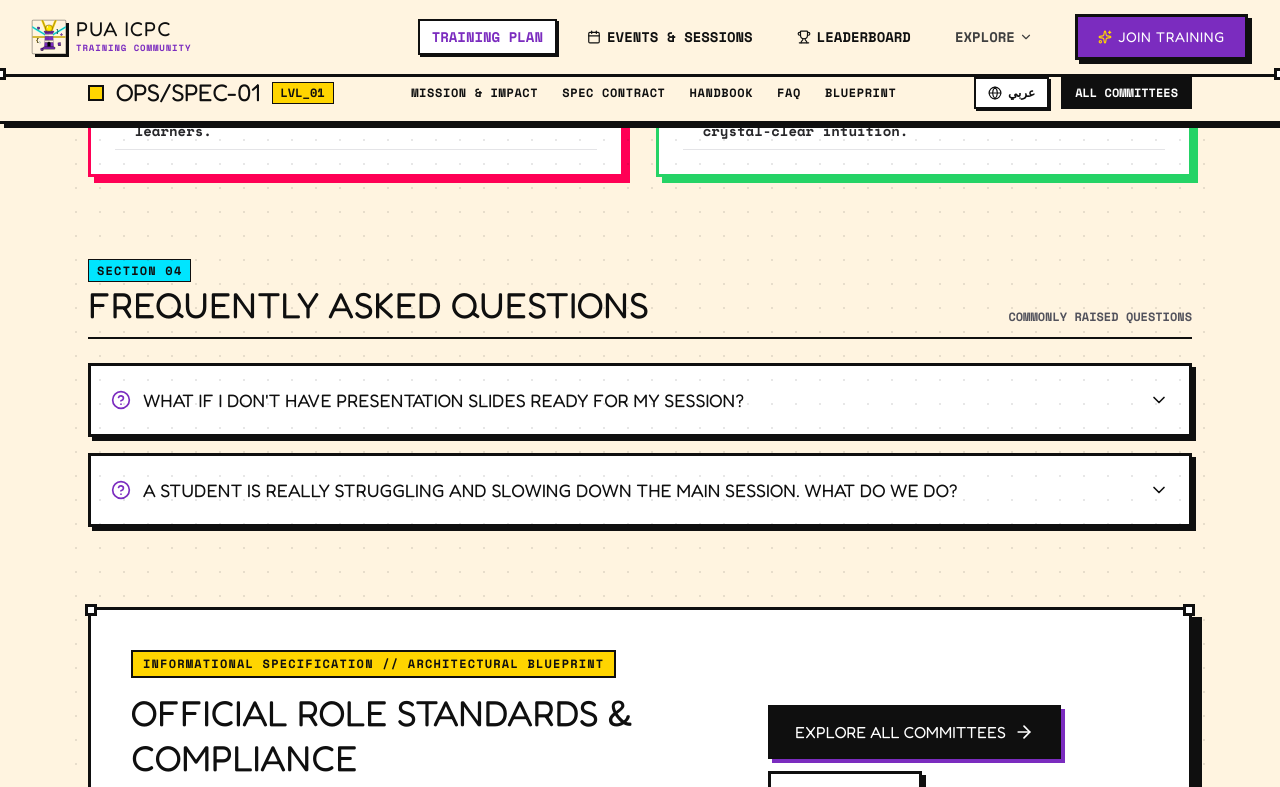
Test case: PuaSpecSheet › reveals a handbook answer when its FAQ row is expanded
The image size is (1280, 787).
(page scrolled)
What coordinates should you click on to do the following:
click the button "What if I don't have presentation slides ready for my session?"
I would click on:
 (640, 400)
Its box is [91, 366, 1189, 434].
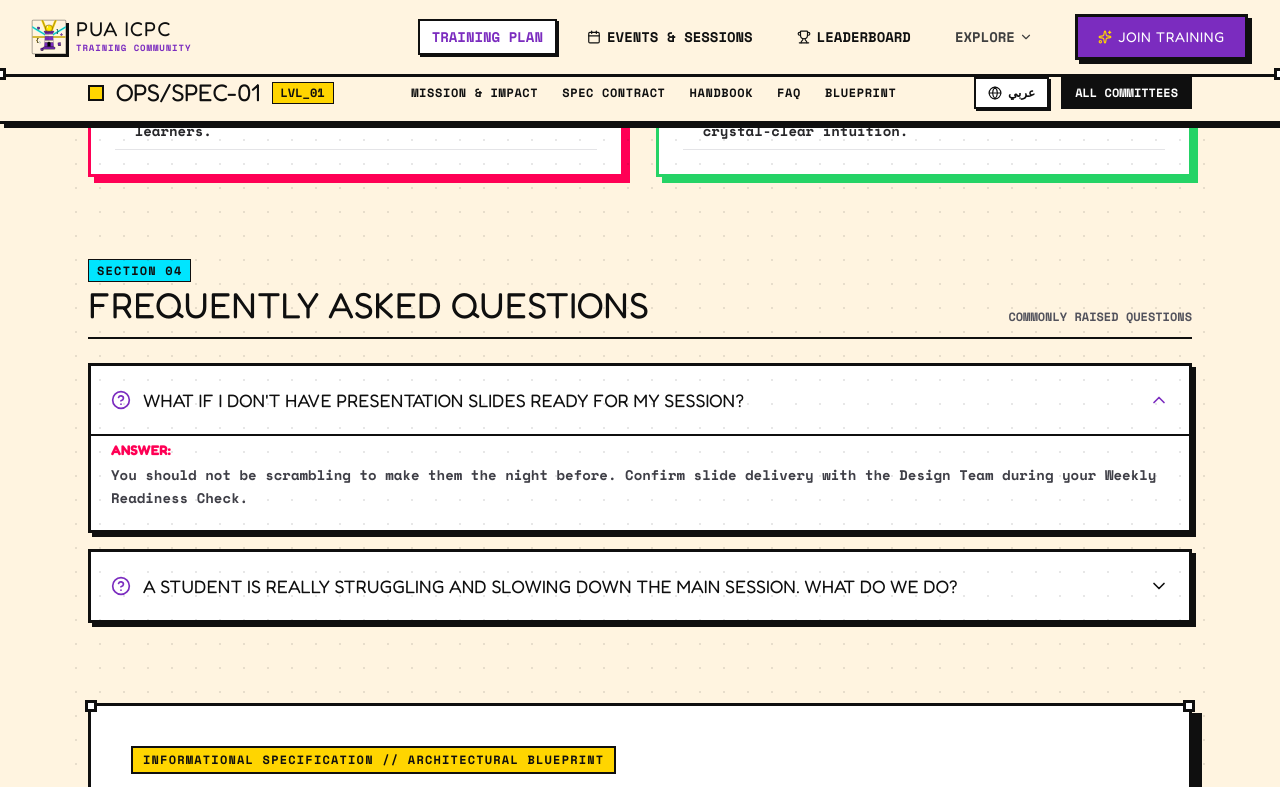
Now the text "You should not be scrambling to make them the night before. Confirm slide delivery with the Design Team during your Week" is shown, box [111, 464, 1156, 508]
